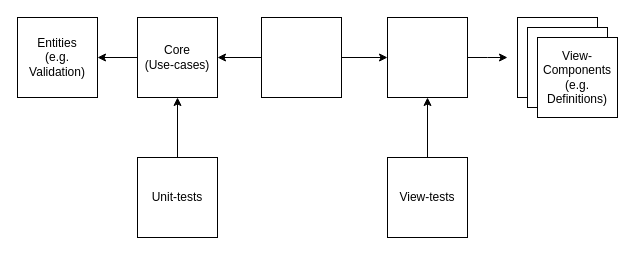
Image size: 635x255. Some labels were removed from this diagram. The box of each missing label's shape, as (x1, y1, x2, y2) in pixels:
Page: (260, 16, 342, 98)
Views: (386, 16, 468, 98)
